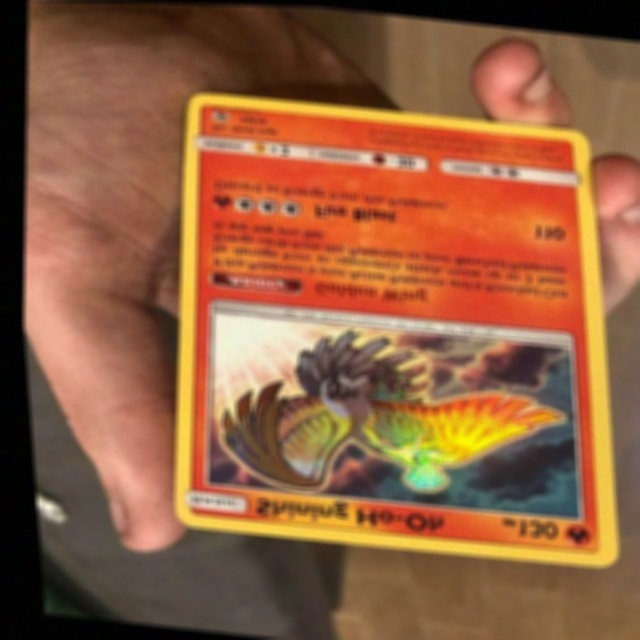card: (165, 90, 611, 563)
